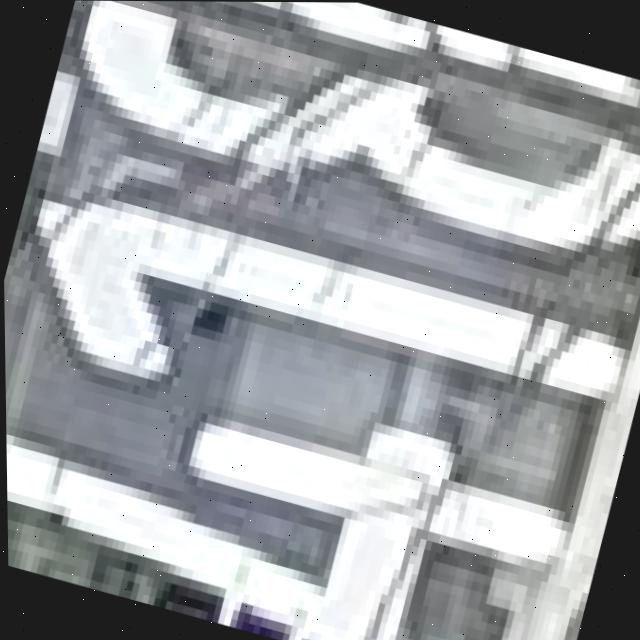character: (2, 150, 640, 506), (4, 299, 592, 640), (45, 0, 640, 302)
